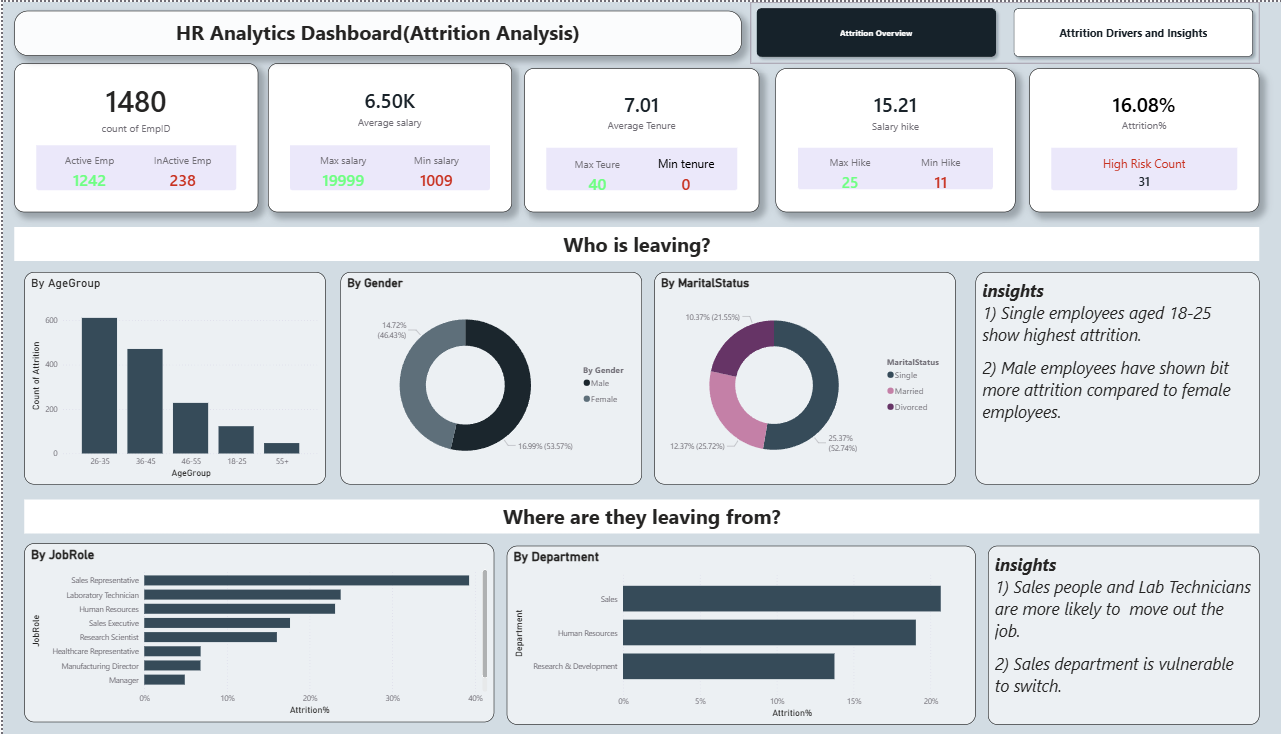

Layout of this report page (visuals, bound fields, positions):
{"tool":"powerbi","page":{"name":"Attrition Overview","canvas":[2050,1200],"ordinal":0},"visuals":[{"type":"cardVisual","fields":{"Data":["CountNonNull(HR_Analytics.EmpID)"]},"box":[18,98,390,238],"z":0},{"type":"cardVisual","fields":{"Data":["Avg(HR_Analytics.MonthlyIncome)"]},"box":[424,98,390,238],"z":1000},{"type":"cardVisual","fields":{"Data":["Avg(HR_Analytics.YearsAtCompany)"]},"box":[834,106,376,230],"z":2000},{"type":"cardVisual","fields":{"Data":["Avg(HR_Analytics.PercentSalaryHike)"]},"box":[1236,106,384,230],"z":3000},{"type":"cardVisual","fields":{"Data":["_Measure.Attrition%"]},"box":[1642,106,368,230],"z":4000},{"type":"textbox","box":[18,360,1992,54],"z":5000},{"type":"columnChart","title":"By AgeGroup","fields":{"Category":["HR_Analytics.AgeGroup"],"Y":["CountNonNull(HR_Analytics.Attrition)"]},"box":[34,432,482,340],"z":6000},{"type":"donutChart","title":"By Gender","fields":{"Category":["HR_Analytics.Gender"],"Y":["_Measure.Attrition%"]},"box":[540,432,482,340],"z":7000},{"type":"donutChart","title":"By MaritalStatus","fields":{"Y":["_Measure.Attrition%"],"Category":["HR_Analytics.MaritalStatus"]},"box":[1042,432,482,340],"z":8000},{"type":"textbox","box":[34,796,1976,54],"z":9000},{"type":"barChart","title":"By JobRole","fields":{"Category":["HR_Analytics.JobRole"],"Y":["_Measure.Attrition%"]},"box":[34,866,752,286],"z":10000},{"type":"barChart","title":"By Department","fields":{"Y":["_Measure.Attrition%"],"Category":["HR_Analytics.Department"]},"box":[806,870,750,286],"z":11000},{"type":"textbox","box":[18,14,1164,72],"z":12000},{"type":"pageNavigator","box":[1196,0,814,98],"z":13000},{"type":"textbox","box":[1556,432,454,340],"z":14000},{"type":"textbox","box":[1576,870,434,286],"z":15000}]}

Visuals, with their boxes in screenshot pixels (x1, y1, x2, y2), scaled from the page's 2050x1200 canvas onto the 1281x734 screenshot:
cardVisual - CountNonNull(HR_Analytics.EmpID): [x1=11, y1=60, x2=255, y2=206]
cardVisual - Avg(HR_Analytics.MonthlyIncome): [x1=265, y1=60, x2=509, y2=206]
cardVisual - Avg(HR_Analytics.YearsAtCompany): [x1=521, y1=65, x2=756, y2=206]
cardVisual - Avg(HR_Analytics.PercentSalaryHike): [x1=772, y1=65, x2=1012, y2=206]
cardVisual - _Measure.Attrition%: [x1=1026, y1=65, x2=1256, y2=206]
textbox: [x1=11, y1=220, x2=1256, y2=253]
"By AgeGroup" columnChart: [x1=21, y1=264, x2=322, y2=472]
"By Gender" donutChart: [x1=337, y1=264, x2=639, y2=472]
"By MaritalStatus" donutChart: [x1=651, y1=264, x2=952, y2=472]
textbox: [x1=21, y1=487, x2=1256, y2=520]
"By JobRole" barChart: [x1=21, y1=530, x2=491, y2=705]
"By Department" barChart: [x1=504, y1=532, x2=972, y2=707]
textbox: [x1=11, y1=9, x2=739, y2=53]
pageNavigator: [x1=747, y1=0, x2=1256, y2=60]
textbox: [x1=972, y1=264, x2=1256, y2=472]
textbox: [x1=985, y1=532, x2=1256, y2=707]
